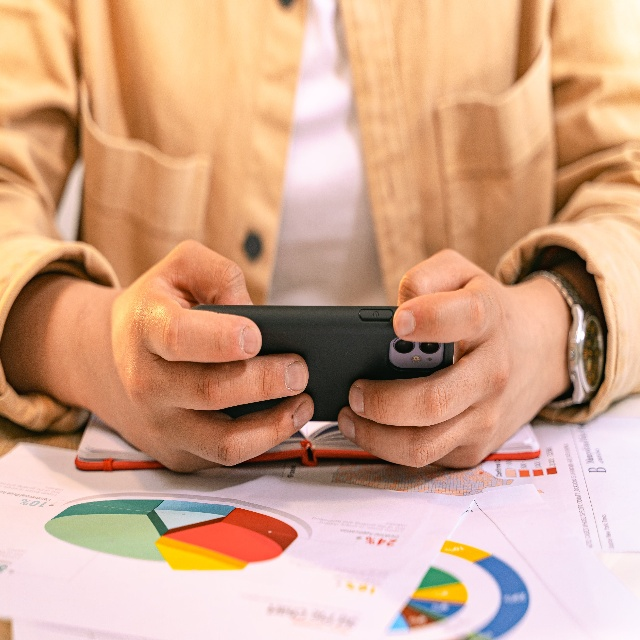Sin_guantes: (106, 238, 313, 470), (336, 244, 538, 472)
